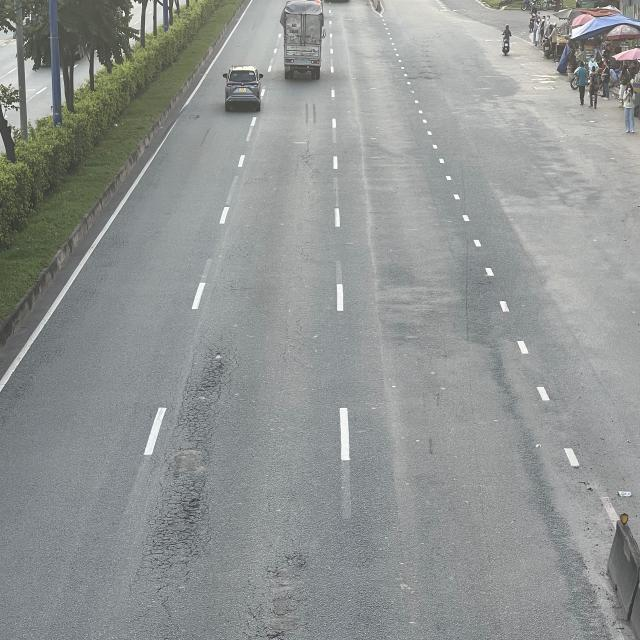car: (221, 65, 263, 109)
truck: (279, 0, 323, 78)
